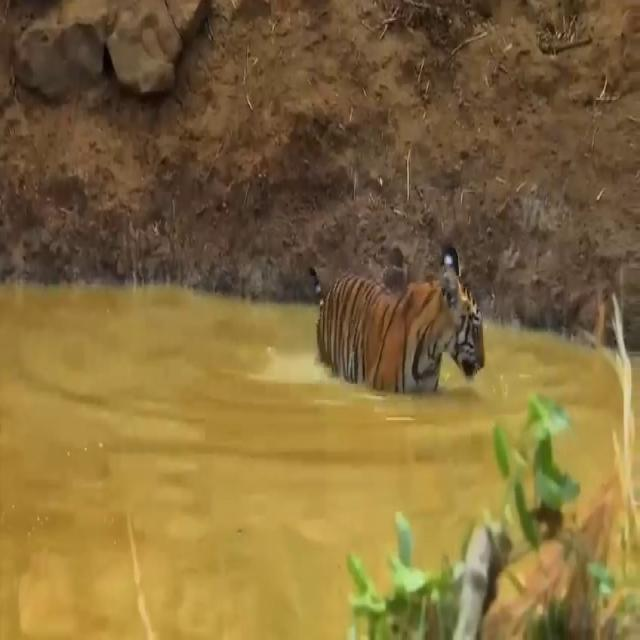tiger: (307, 242, 486, 395)
